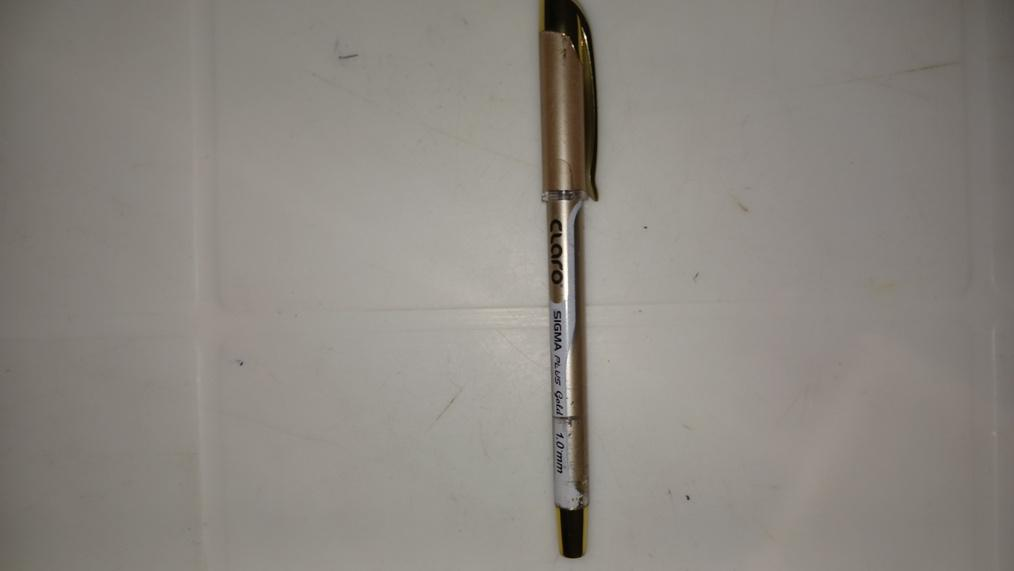pen: (537, 2, 601, 557)
